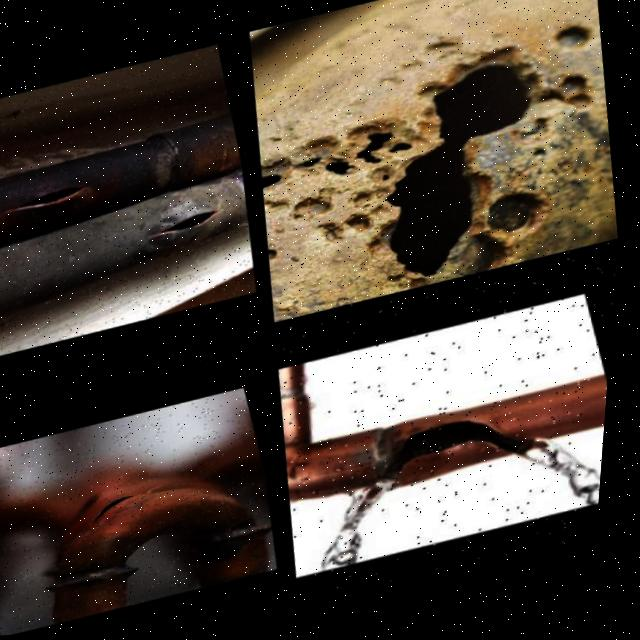hole: (367, 131, 538, 302), (415, 41, 576, 170), (483, 181, 576, 259), (307, 181, 401, 252), (563, 72, 613, 128), (364, 121, 413, 177), (558, 18, 607, 69), (262, 160, 309, 200), (333, 154, 375, 187), (301, 145, 345, 176), (403, 134, 434, 163), (271, 242, 300, 265)
rupture: (383, 408, 539, 499), (14, 185, 100, 218), (157, 214, 234, 239), (103, 498, 160, 528)
